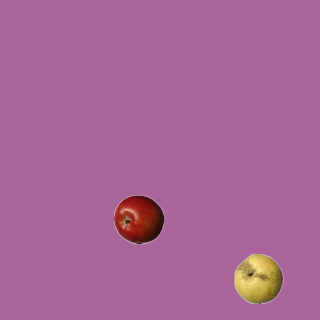Apple Braeburn: (113, 194, 163, 244)
Apple Golden 1: (233, 253, 283, 303)
